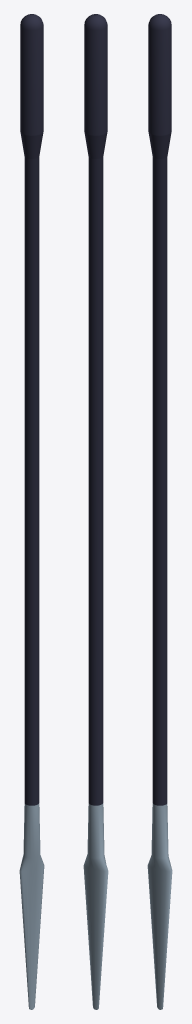
Rendered from Sand Art Tool.fbx.
3 views of the same model, side by side, from view 1: azimuth 30°, elevation 25°; view 2: azimuth 150°, elevation 25°; view 3: azimuth 330°, elevation 25° (orthographic).
Visible parts, largest first — view 1: Sand Art Tool; view 2: Sand Art Tool; view 3: Sand Art Tool.
Boxes of the visible parts, bbox=[...] form: Sand Art Tool: bbox=[19, 14, 44, 1009]; Sand Art Tool: bbox=[83, 14, 108, 1009]; Sand Art Tool: bbox=[147, 14, 172, 1009].
Bounding box in the file's own units: 23.87 × 921 × 19.49.
